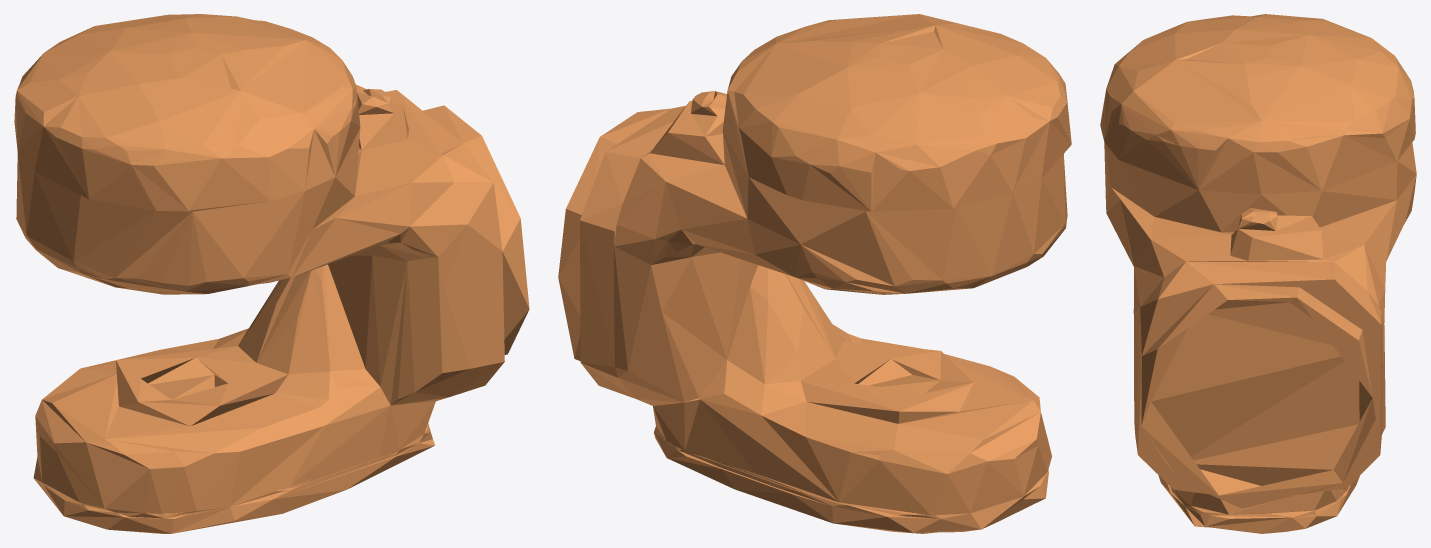
The model's file is like_kr240r2900_link_5.glb.
3 views of the same model, side by side, from view 1: azimuth 30°, elevation 25°; view 2: azimuth 150°, elevation 25°; view 3: azimuth 270°, elevation 25° (orthographic). The views are drawn at different scales.
Parts seen in each view (by area): view 1: world; view 2: world; view 3: world.
Part boxes in pixels (box(x1,y1,x2,y2)): world: box(14, 14, 529, 533); world: box(558, 14, 1071, 533); world: box(1100, 14, 1416, 533).
Size of the model in its own units: 0.3869 by 0.3905 by 0.2733.
